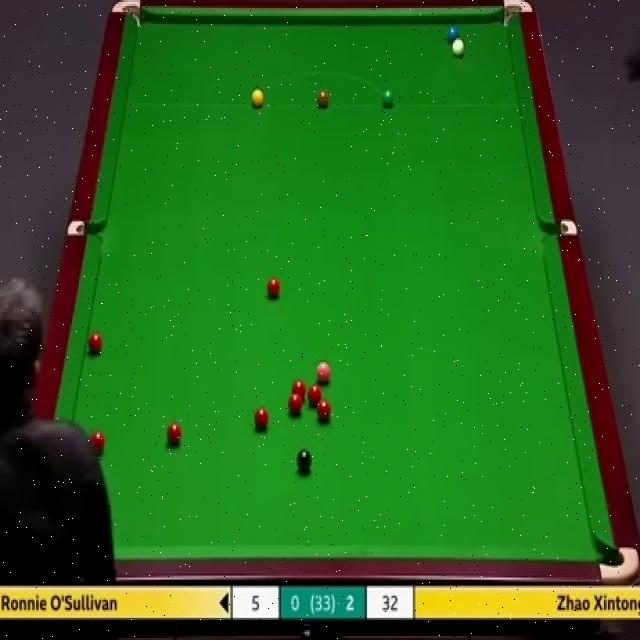black-ball: (295, 448, 313, 473)
blue-ball: (448, 25, 462, 42)
brown-ball: (318, 89, 330, 108)
green-ball: (381, 88, 395, 110)
pink-ball: (315, 360, 331, 384)
red-ball: (253, 405, 270, 432), (87, 330, 104, 355), (166, 422, 183, 446), (290, 378, 306, 402), (316, 397, 331, 421), (89, 430, 106, 451), (309, 381, 325, 403), (266, 277, 281, 300), (288, 393, 302, 414)
white-ball: (452, 38, 465, 59)
yellow-ball: (250, 88, 265, 108)
